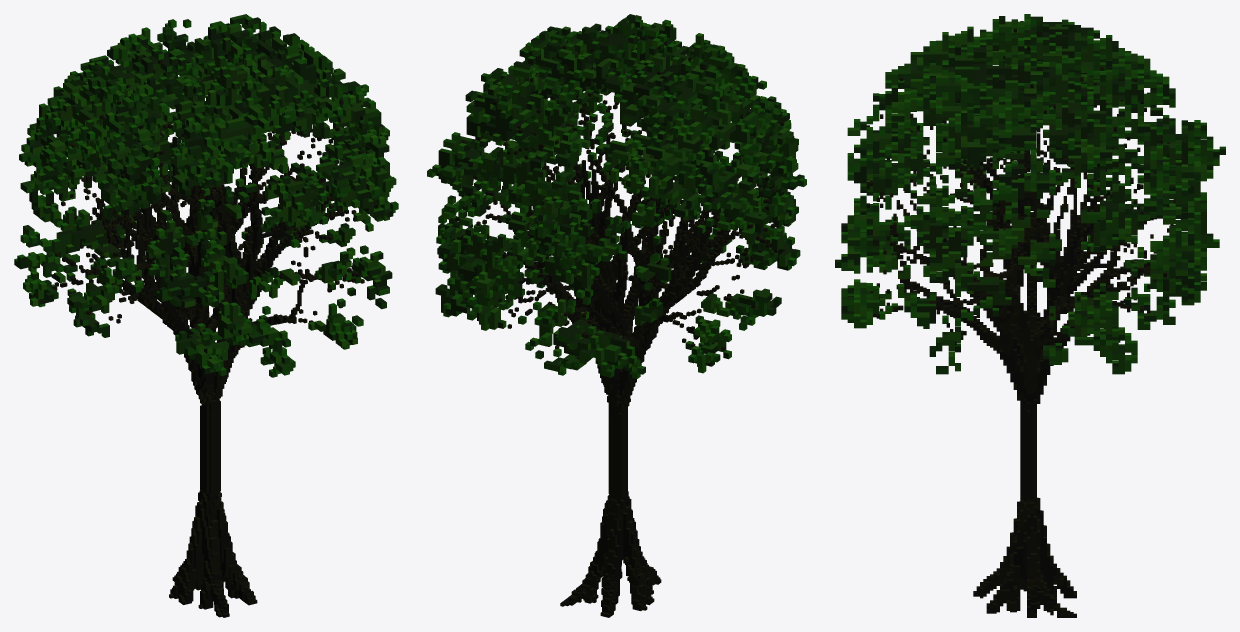
File: tree_dark.fbx
The picture shows the model from 3 angles, left to right: view 1: azimuth 30°, elevation 25°; view 2: azimuth 150°, elevation 25°; view 3: azimuth 270°, elevation 25°; orthographic projection.
Parts seen in each view (by area): view 1: leaves.001; view 2: leaves.001; view 3: leaves.001.
Boxes of the visible parts, left/top/right/bottom form: leaves.001: left=14, top=14, right=398, bottom=617; leaves.001: left=427, top=14, right=806, bottom=617; leaves.001: left=835, top=14, right=1225, bottom=617.
Size of the model in its own units: 752 by 1208 by 765.
